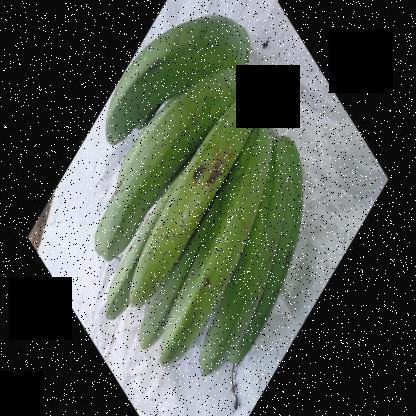unripe: (129, 84, 248, 316), (96, 1, 252, 136)
